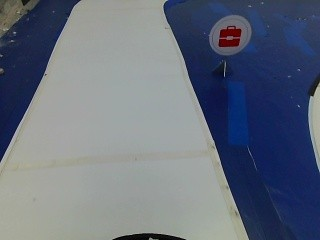company: (210, 18, 251, 54)
